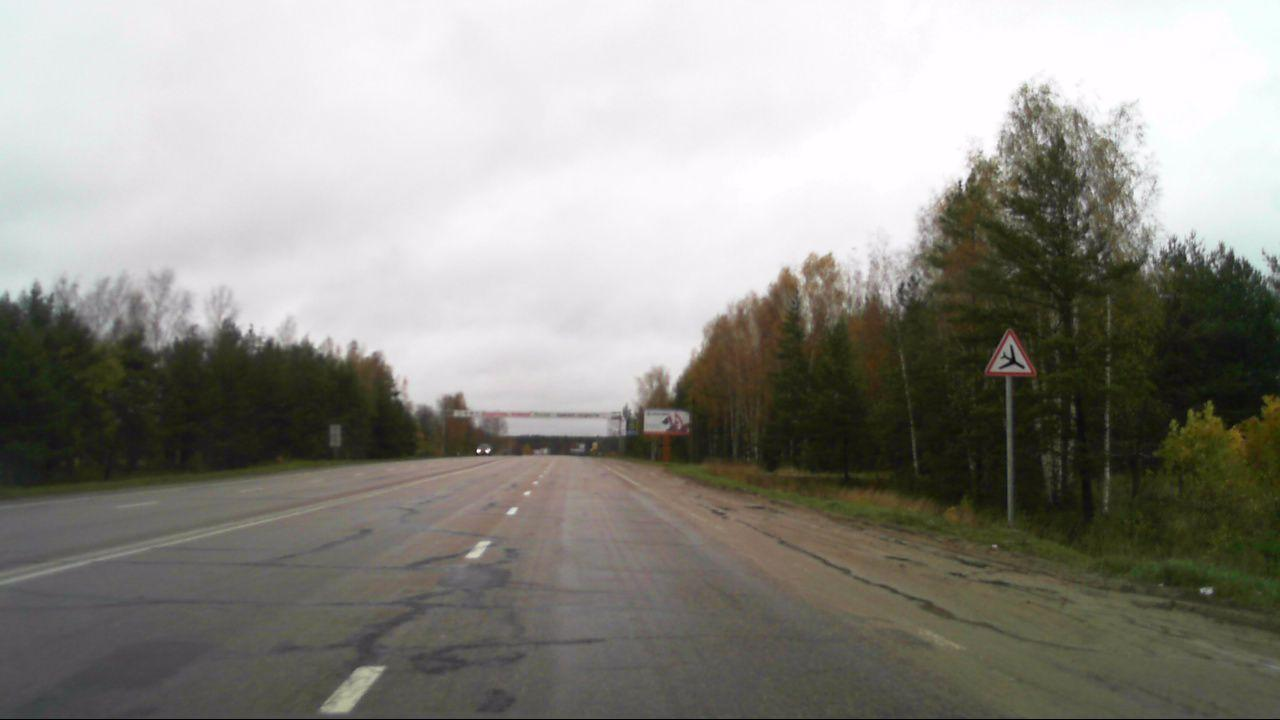1_30: (982, 325, 1038, 377)
